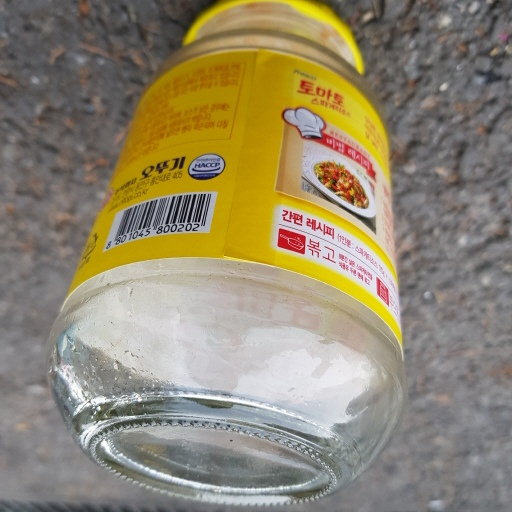Glass_5: (47, 1, 411, 505)
